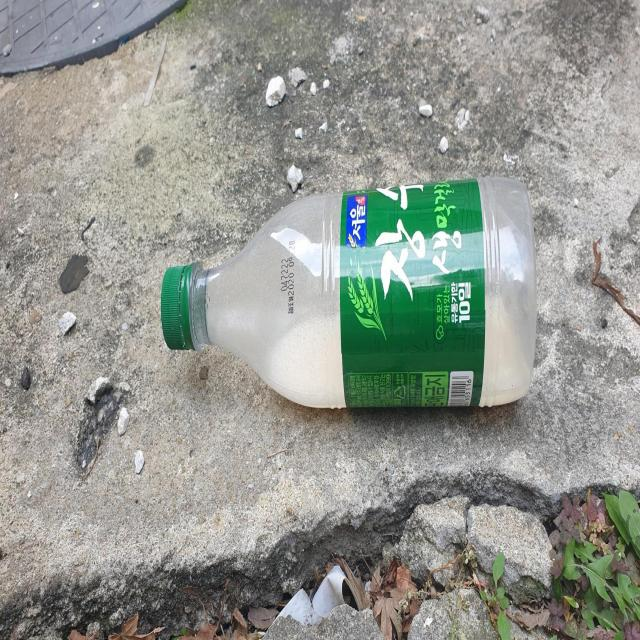plastic: (160, 175, 537, 407)
